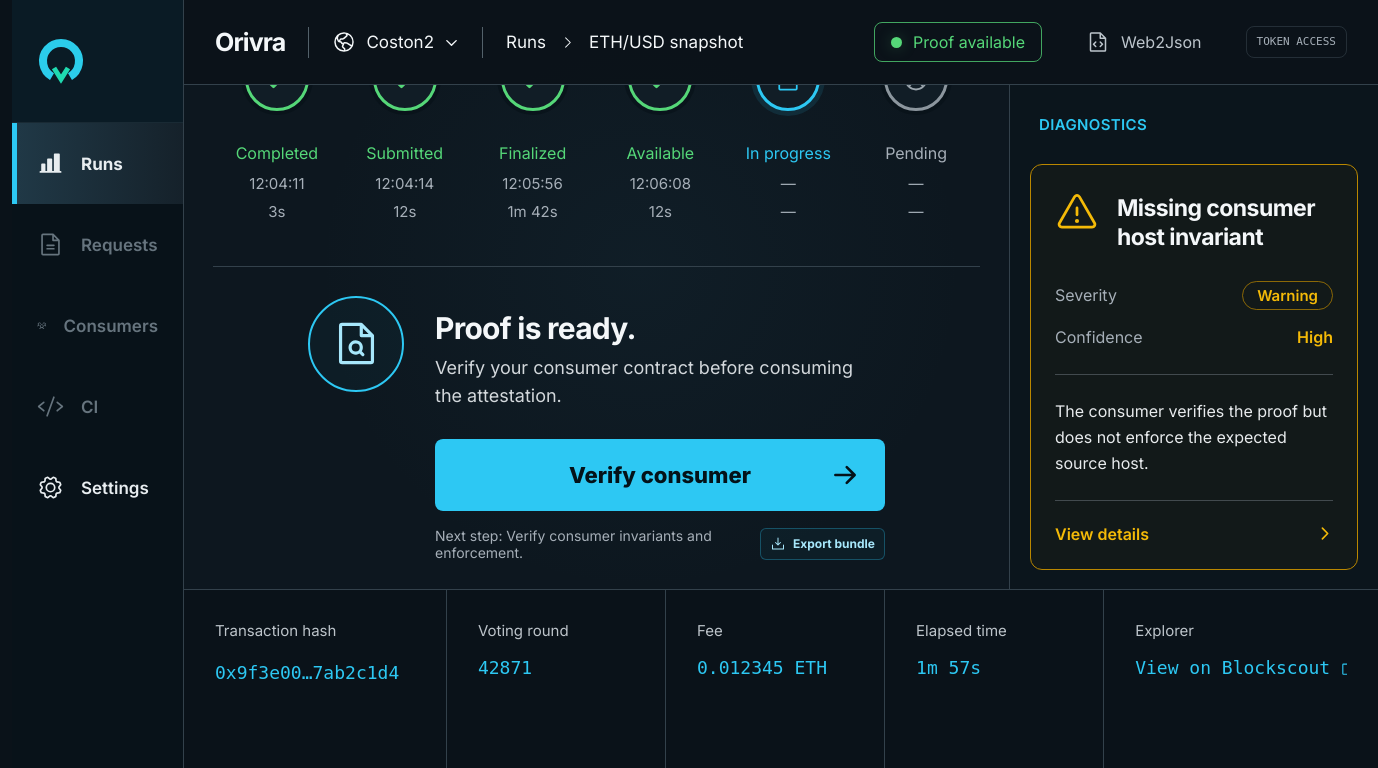
Test case: Run Cockpit live surface contract › exports and reparses a checksummed bundle before enabling download
The width and height of the screenshot is (1378, 768).
(page scrolled)
Click the button "Export bundle". click: (822, 544)
box: [760,528,885,560]
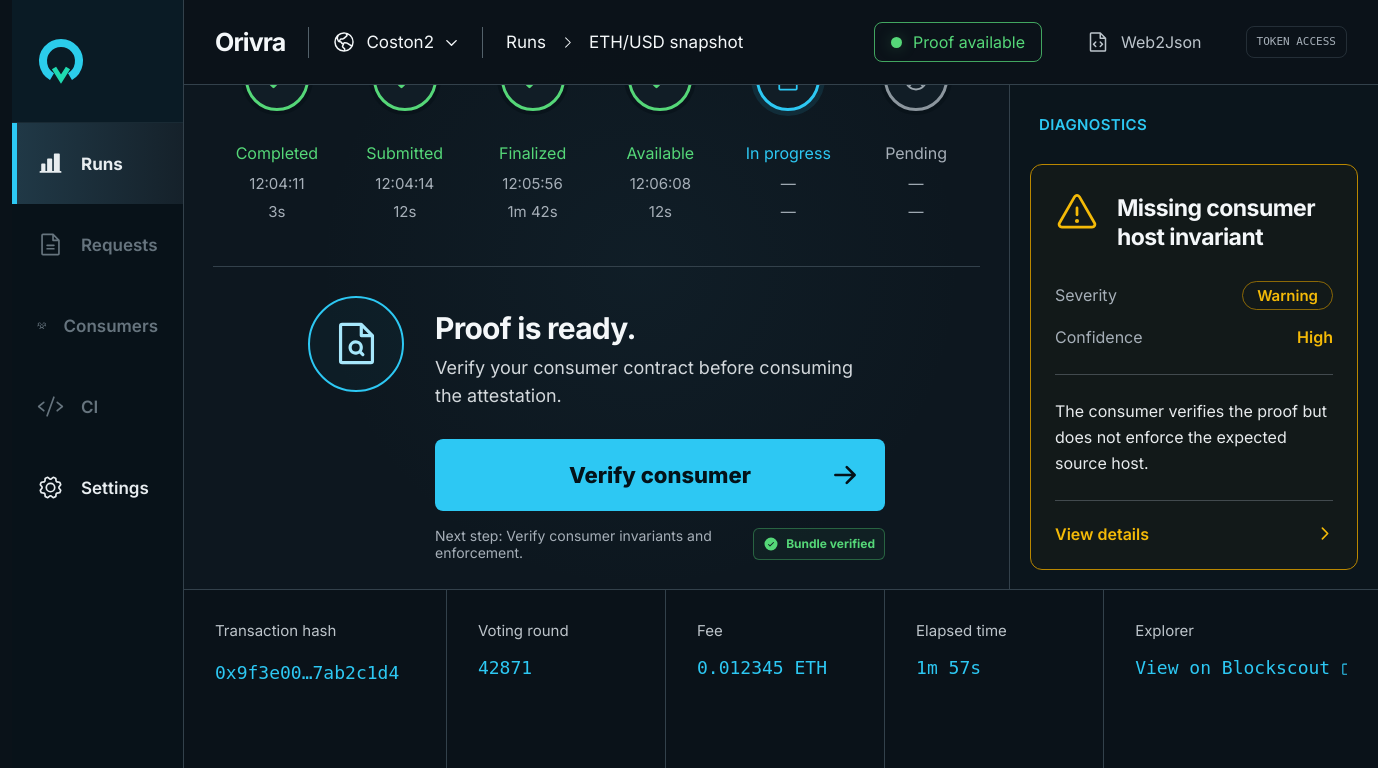
Expected: the link "Bundle verified" is shown, [753,528,885,560]
